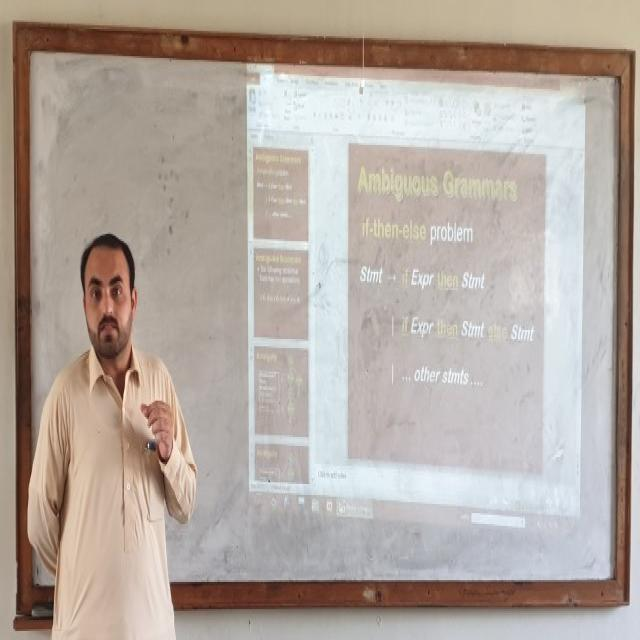Instructor: (53, 213, 163, 636)
Slide: (244, 38, 585, 543)
White-board: (24, 37, 629, 596)
